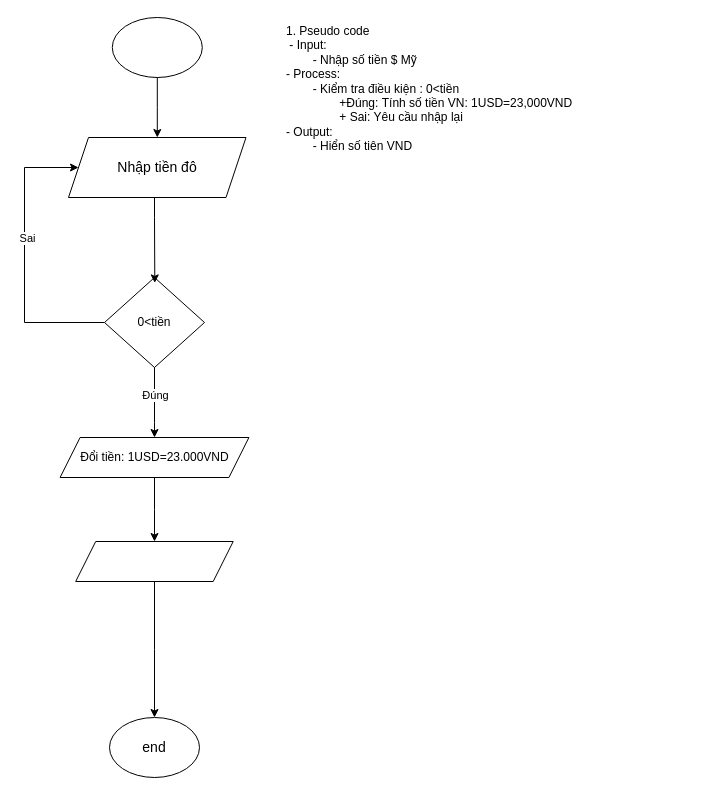
The diagram is 722 pixels wide and 795 high, and some of its shapes have lost their labels. The shapes that lost their labels are listed below. From the top down, each one's centre as x and y in pixels, then its label:
point (156, 47): Begin
point (154, 561): Hiển thị số tiền VND
